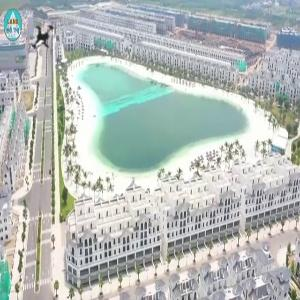drone: (8, 2, 77, 71)
